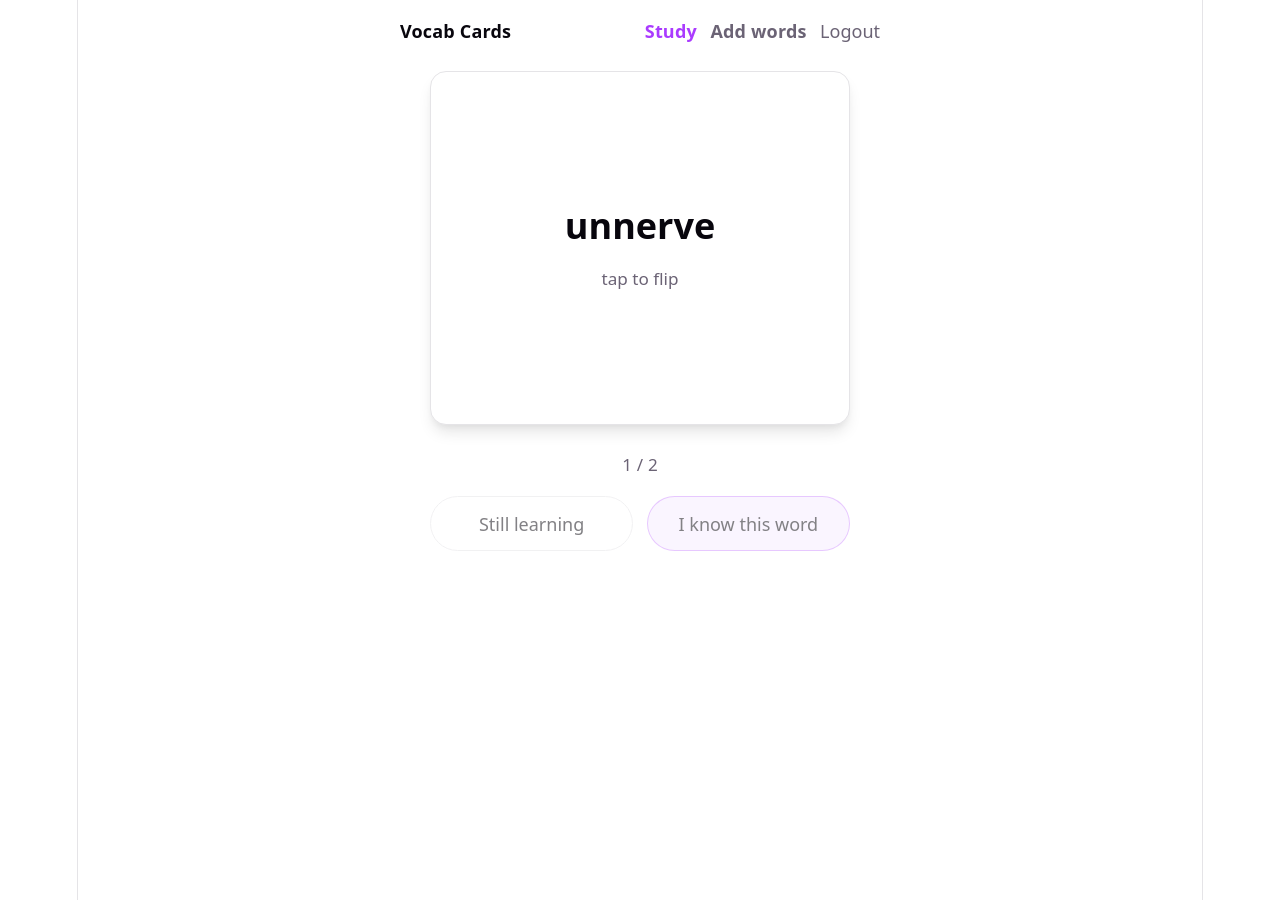
StudyPage › enables study controls after the flashcard is flipped
Expected: the text "unnerve" is shown, [565,204,715,248]
Click the button "unnerve tap to flip".
click(640, 248)  # box [430,71,850,425]
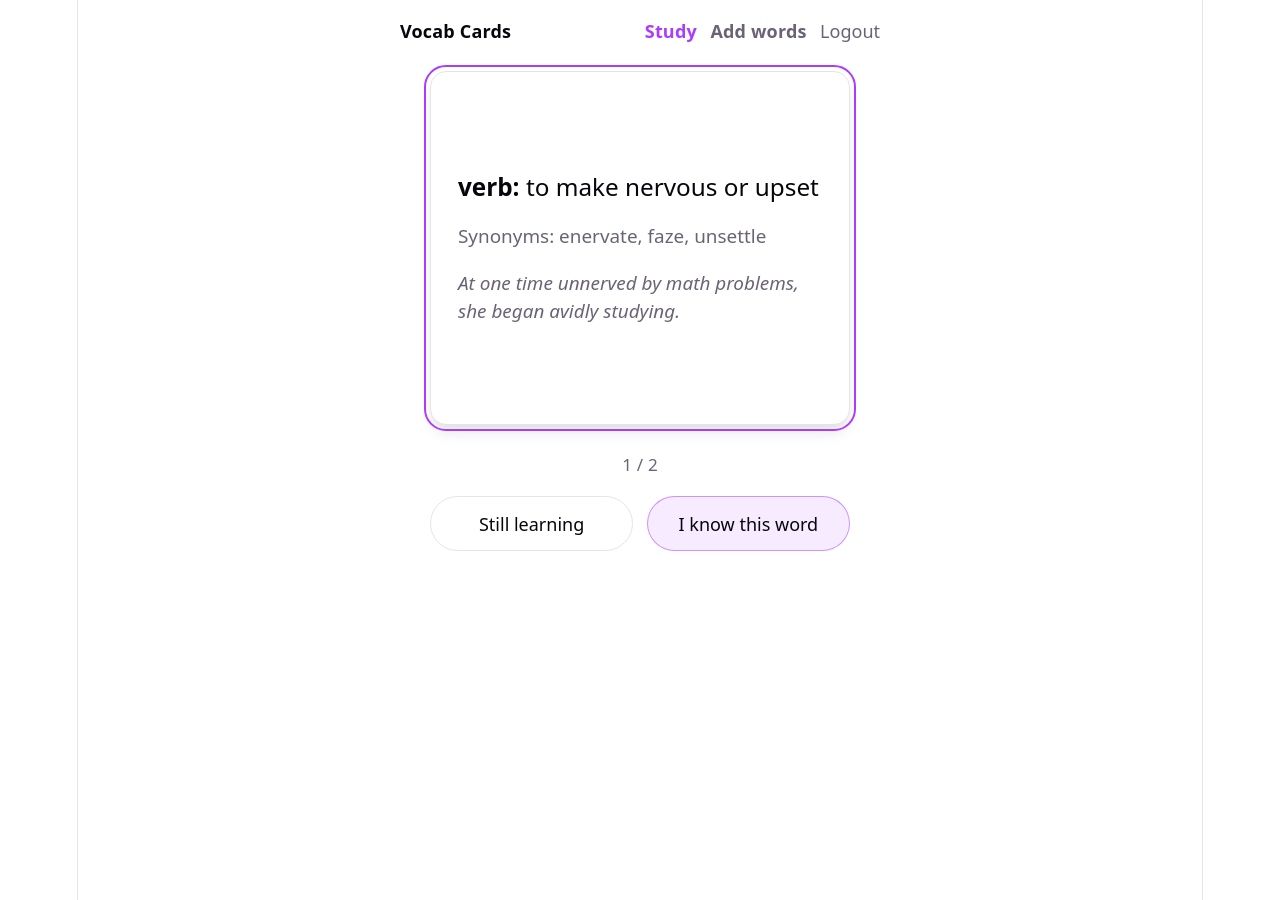
Expected: the button "Still learning" is enabled, [430,496,633,551]
Expected: the button "I know this word" is enabled, [647,496,850,551]
